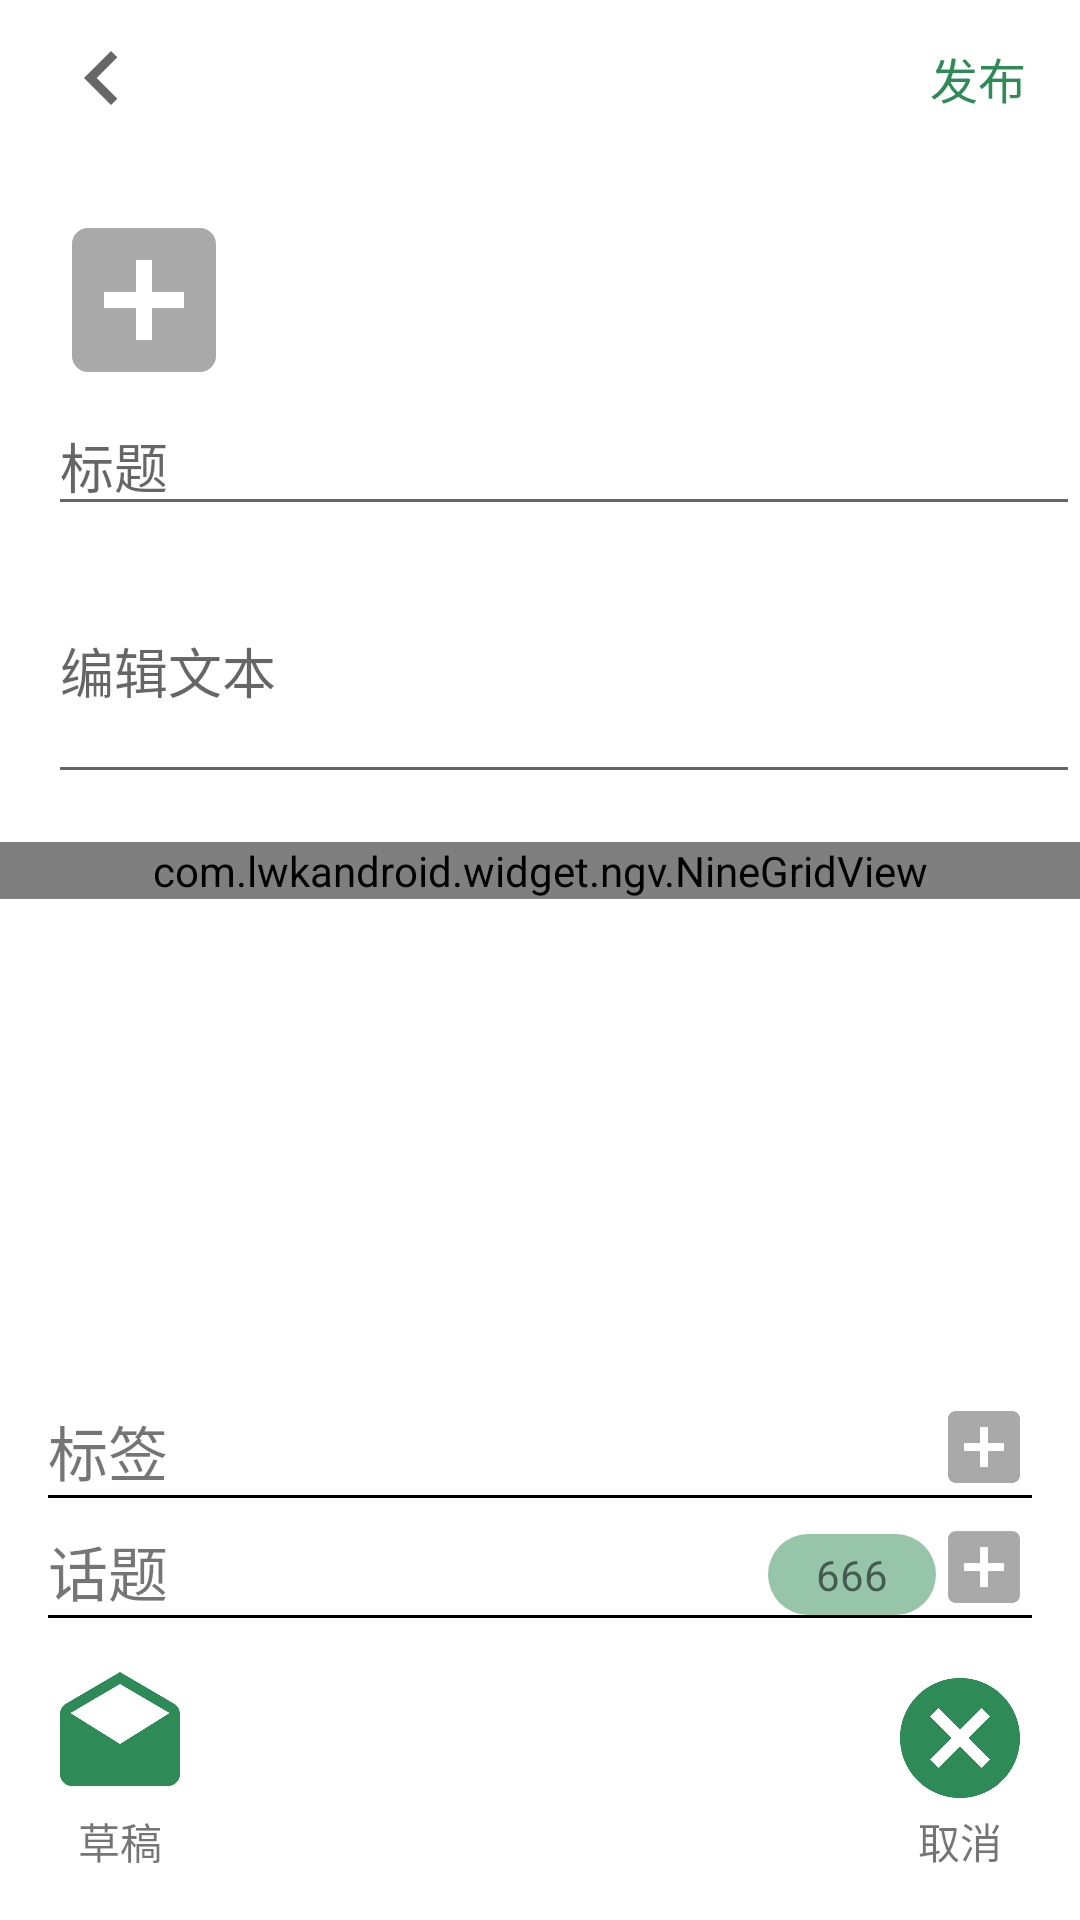

Locate icon controls on the screen. Image size 1080px x 1920px, boxes as region(x1, y1, x2, y2).
add box: region(72, 228, 216, 372), region(948, 1411, 1020, 1483), region(948, 1531, 1020, 1603)
chevron left: region(84, 51, 117, 105)
